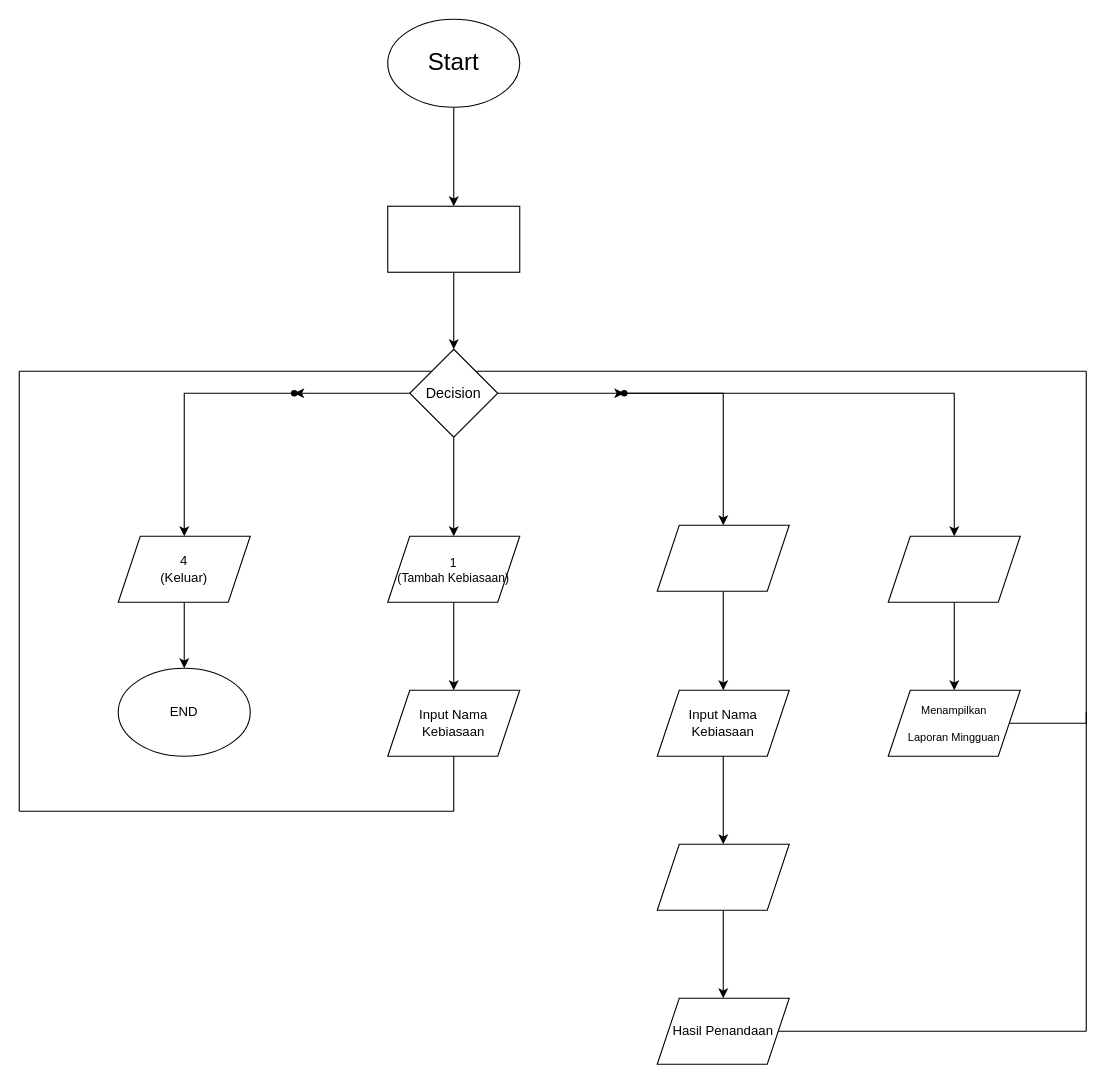
The diagram is 1107 pixels wide and 1084 high, and some of its shapes have lost their labels. Each missing label, with the centre of its shape:
2 (Tandai Kebiasaan Selesai): [722,557]
3 (Tampilkan Laporan Mingguan): [953,568]
Input Tanggal: [722,876]
Running Program: [453,238]
